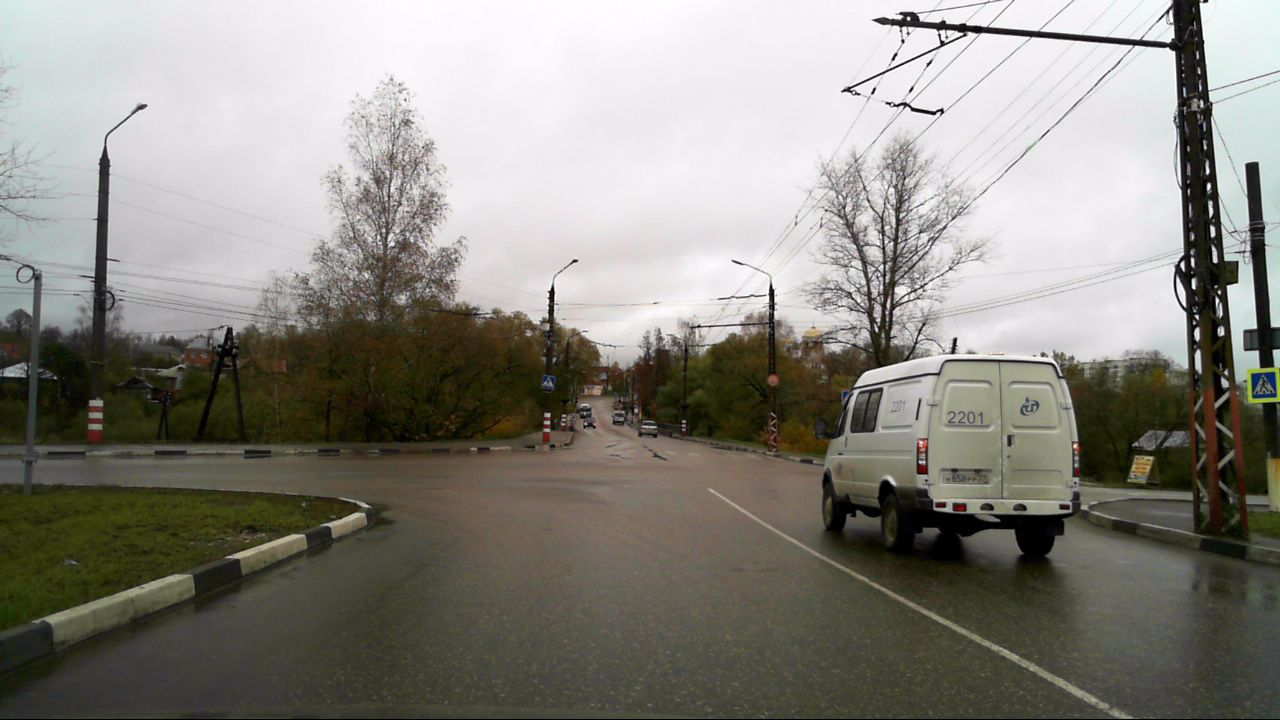Pedestrian Crossing: (1250, 372, 1277, 399), (542, 375, 555, 390)
